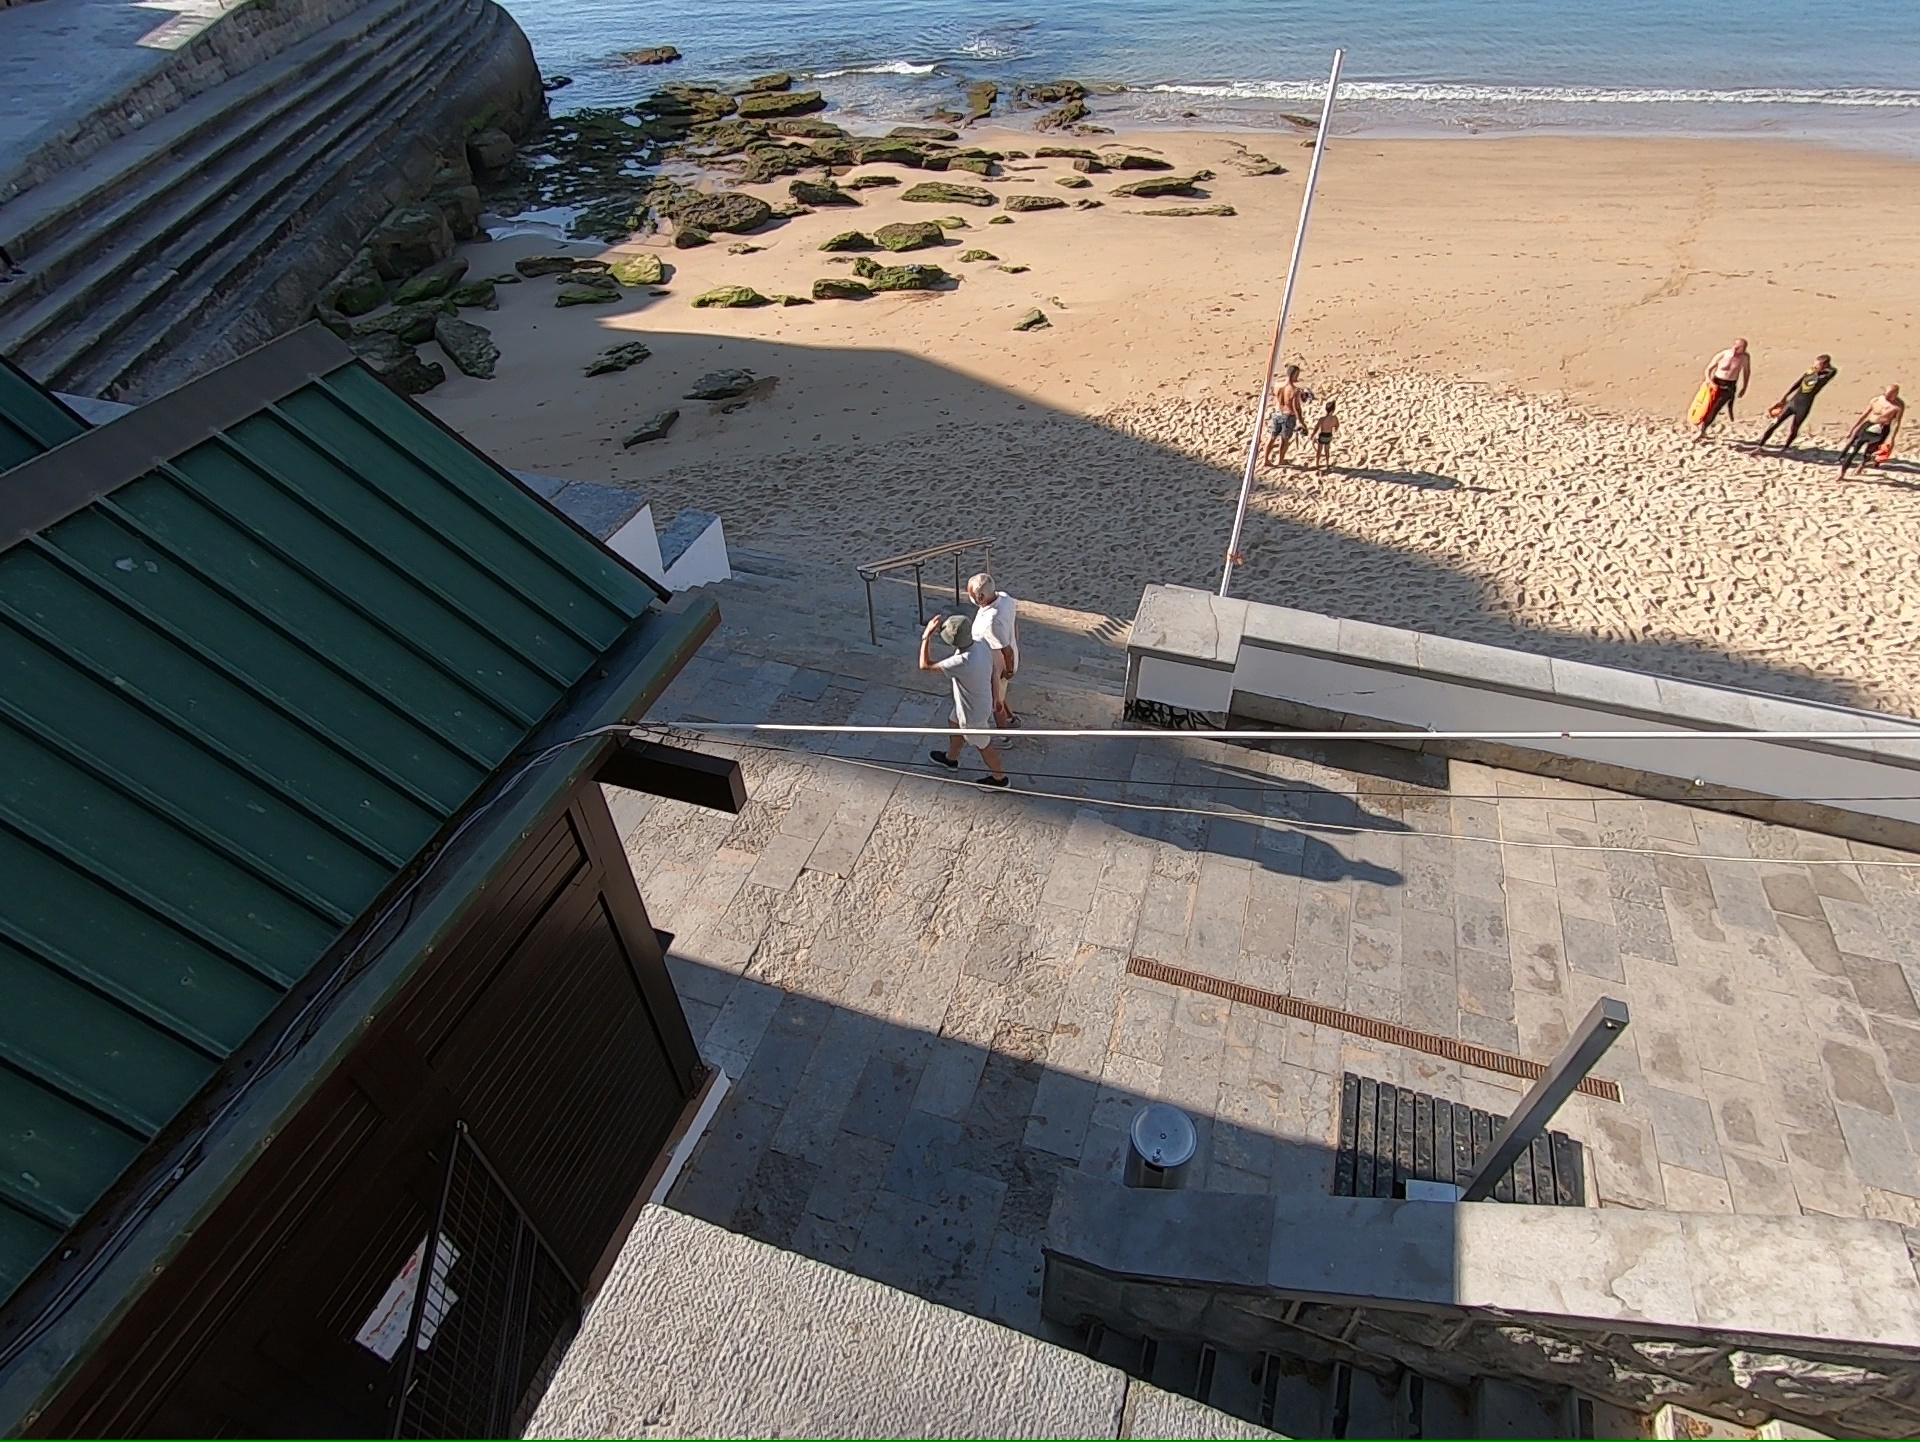person: (918, 614, 997, 771), (1767, 354, 1836, 453), (1848, 383, 1909, 475), (1695, 328, 1747, 436), (1267, 367, 1304, 471), (1308, 395, 1342, 468), (965, 572, 1011, 612)
